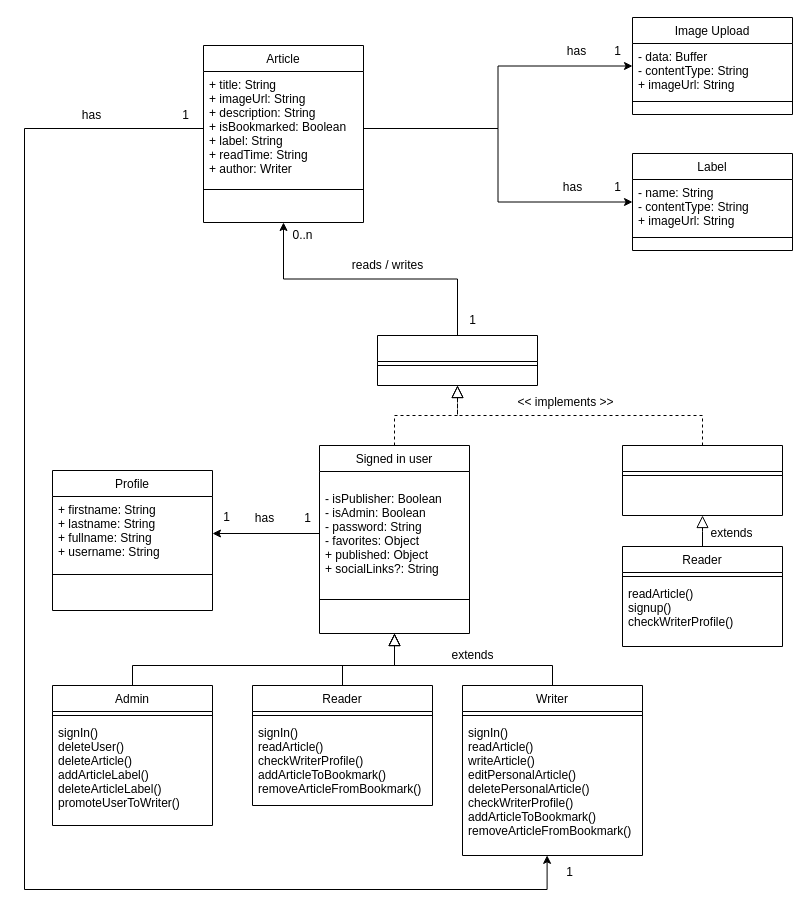
Image size: 810x915. Some labels were removed from this diagram. The shapes that lost their labels are listed below. From the top down, each one's centre as x and y in pixels, then its label:
(457,360): User
(702,480): Unsigned in user
